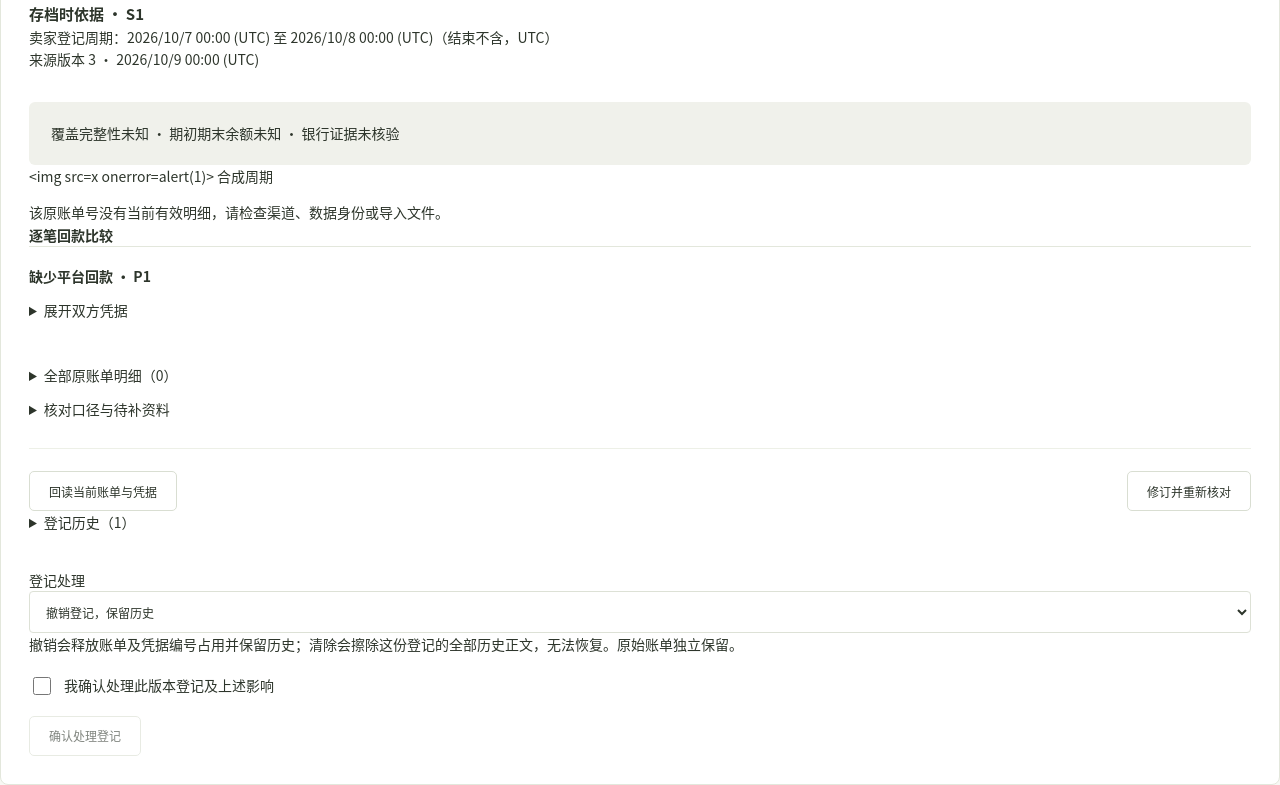
Test: clears historical body when the source is cleared during current read
This screenshot has width=1280, height=785.
(page scrolled)
Click the button "回读当前账单与凭据".
click(103, 492)  # box [29, 472, 177, 512]
(page scrolled)
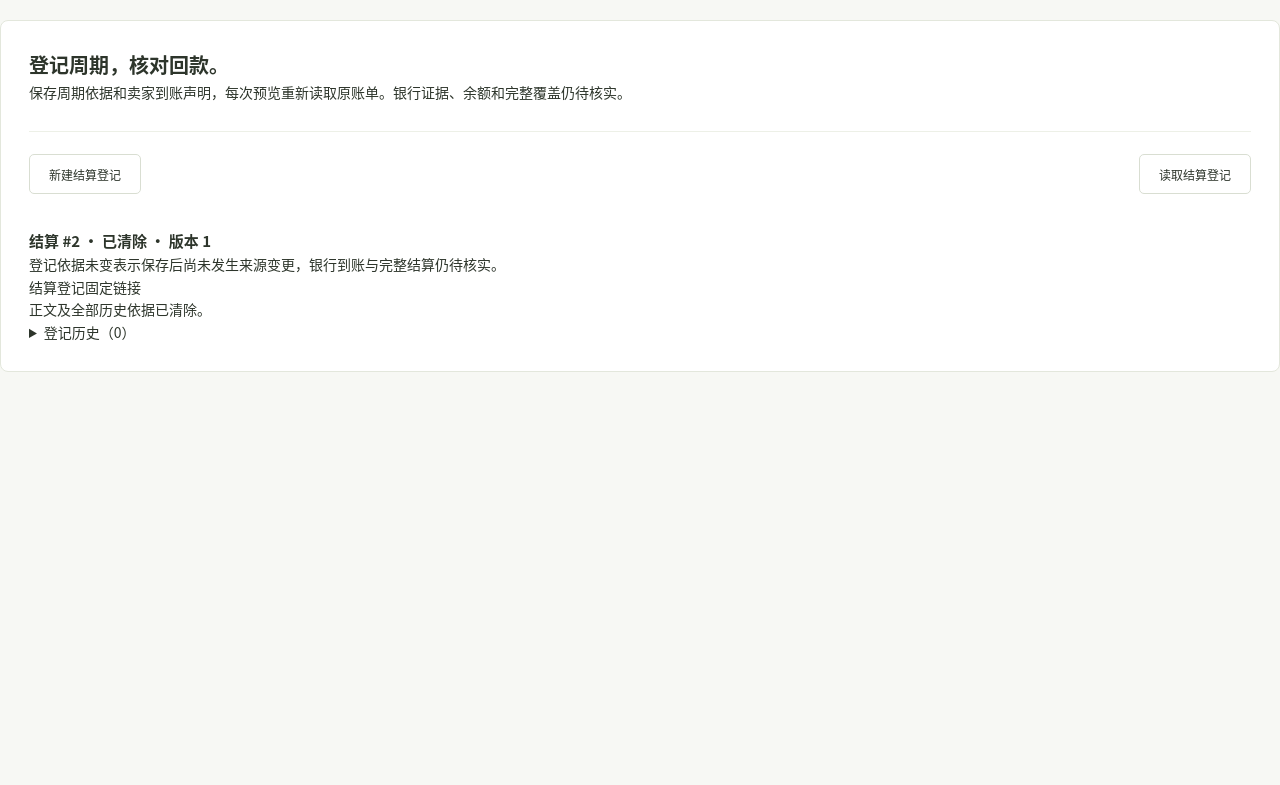
Check: the text "正文及全部历史依据已清除" is shown, box [29, 299, 211, 319]
